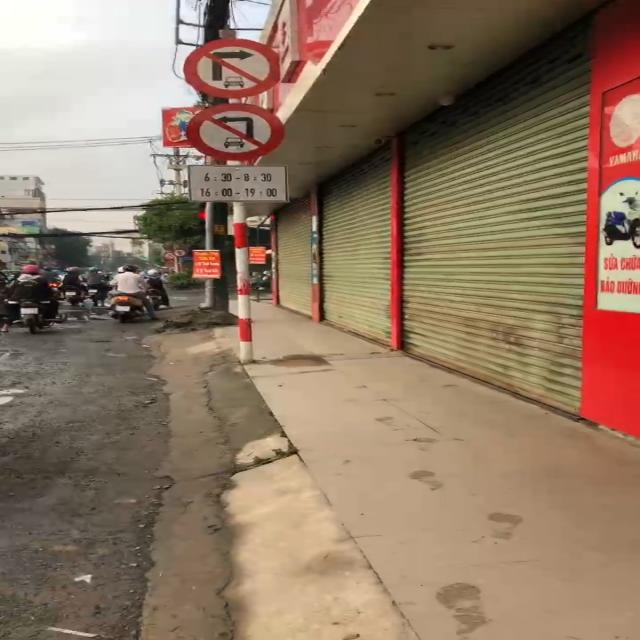Bien bao cam xe o to re phai: (182, 36, 293, 101)
Bien bao cam xe o to re trai: (179, 101, 286, 161)
